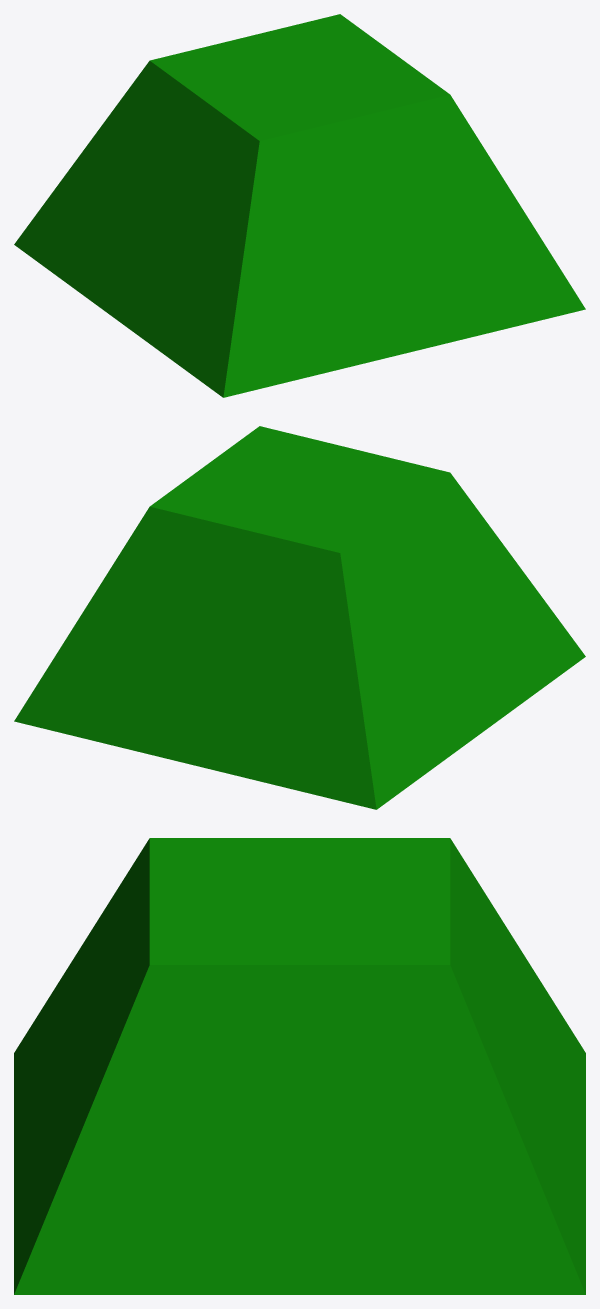
The model's file is Cannon platform.fbx.
The picture shows the model from 3 angles, top to bottom: view 1: azimuth 30°, elevation 25°; view 2: azimuth 150°, elevation 25°; view 3: azimuth 270°, elevation 25°; orthographic projection. The views are drawn at different scales.
Parts seen in each view (by area): view 1: Cube; view 2: Cube; view 3: Cube.
Boxes of the visible parts, x1,y1,x2,y2 form: Cube: (14, 14, 585, 397); Cube: (14, 426, 585, 809); Cube: (14, 838, 585, 1294).
Size of the model in its own units: 380 by 200 by 380.
